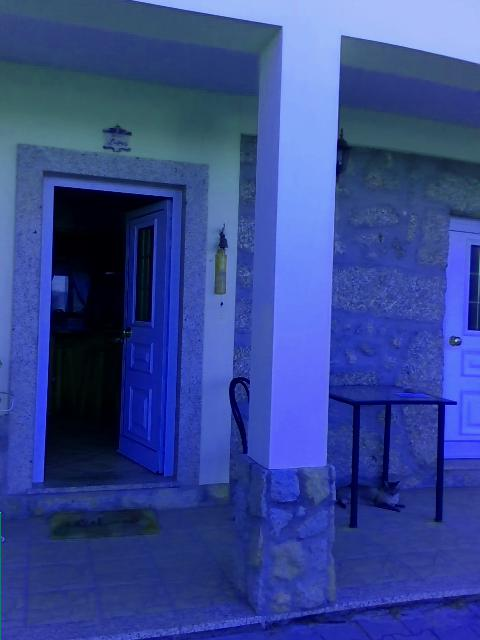open_door: (32, 167, 187, 494)
